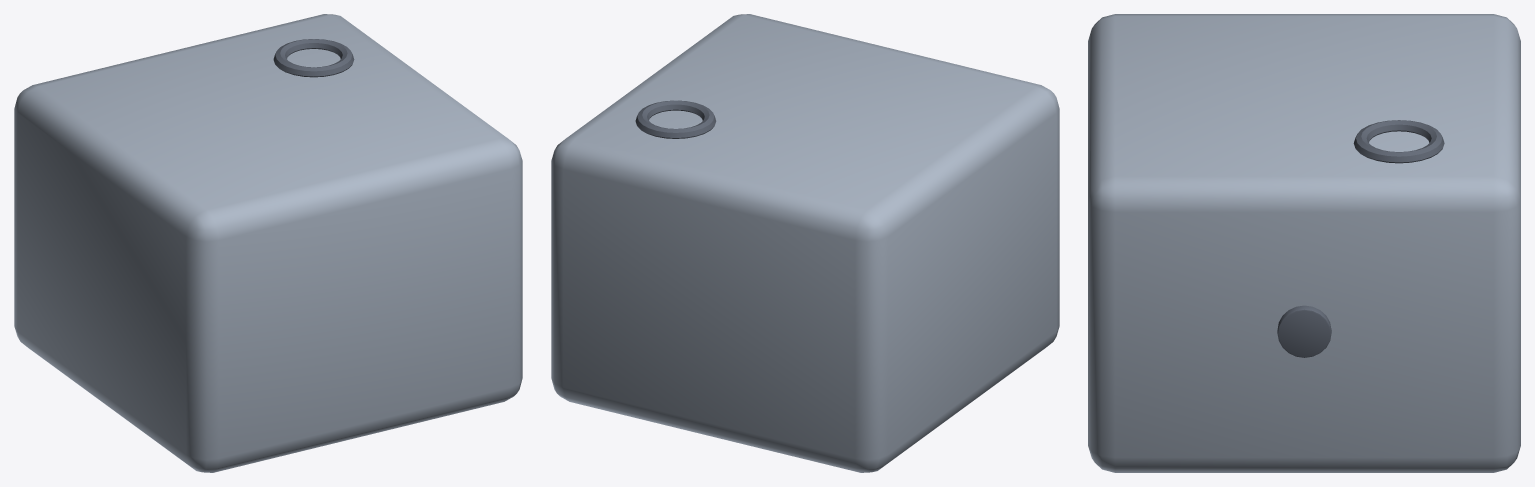
Rendered from heatcap_apparatus.glb.
The picture shows the model from 3 angles, left to right: view 1: azimuth 30°, elevation 25°; view 2: azimuth 150°, elevation 25°; view 3: azimuth 270°, elevation 25°; orthographic projection. The views are drawn at different scales.
Parts seen in each view (by area): view 1: Metal_Block_Body, Thermo_Hole; view 2: Metal_Block_Body, Thermo_Hole; view 3: Metal_Block_Body, Heater_Hole, Thermo_Hole.
Part boxes in pixels (x1,y1,x2,y2): Metal_Block_Body: [14, 14, 522, 472]; Thermo_Hole: [273, 39, 354, 77]; Metal_Block_Body: [551, 14, 1059, 472]; Thermo_Hole: [635, 100, 716, 138]; Metal_Block_Body: [1088, 14, 1520, 472]; Heater_Hole: [1277, 305, 1331, 357]; Thermo_Hole: [1353, 120, 1444, 163].
Size of the model in its own units: 1.64 by 1.23 by 1.6.
